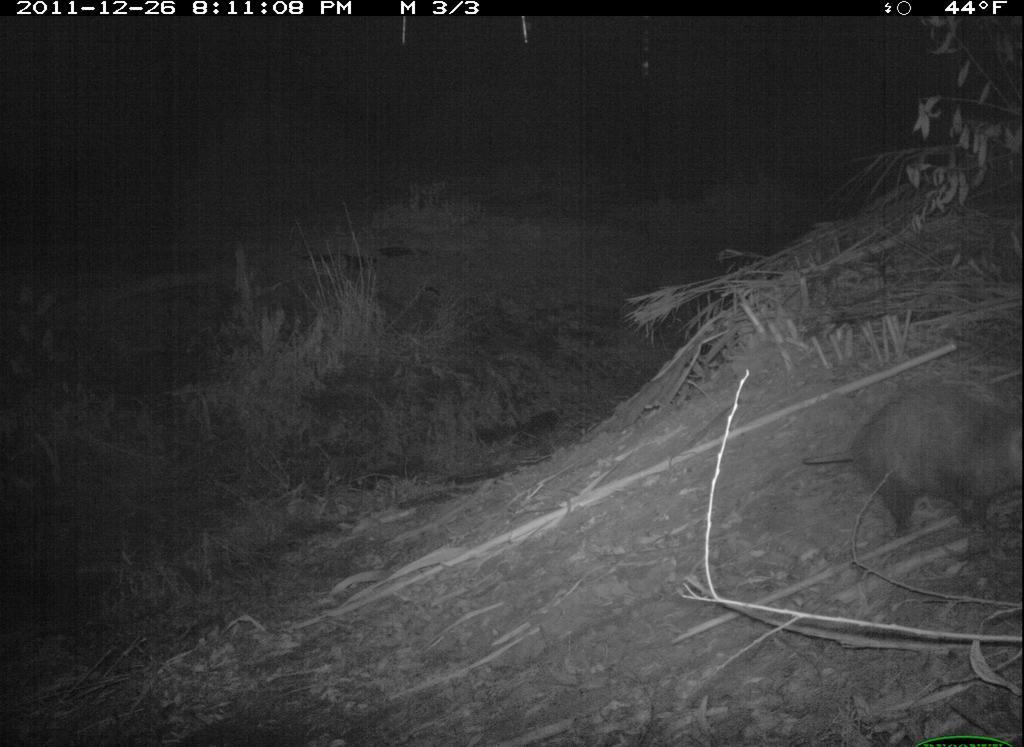opossum: (802, 374, 1024, 548)
